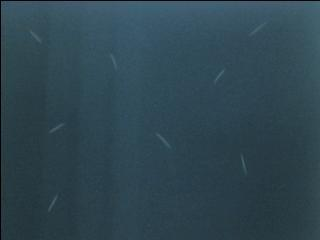scratch: (150, 127, 176, 153), (245, 18, 270, 40), (48, 188, 65, 214), (235, 149, 250, 177), (26, 26, 45, 47), (48, 120, 69, 136), (104, 50, 119, 72), (213, 65, 228, 85)
